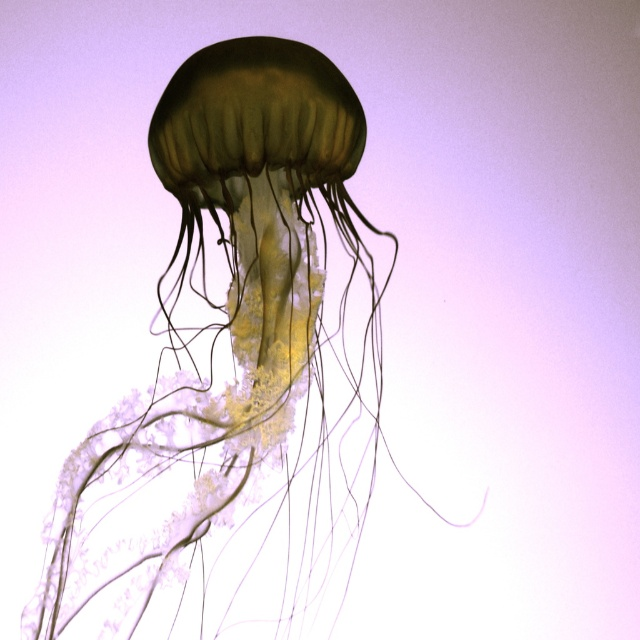Jellyfish: (17, 32, 491, 639)
